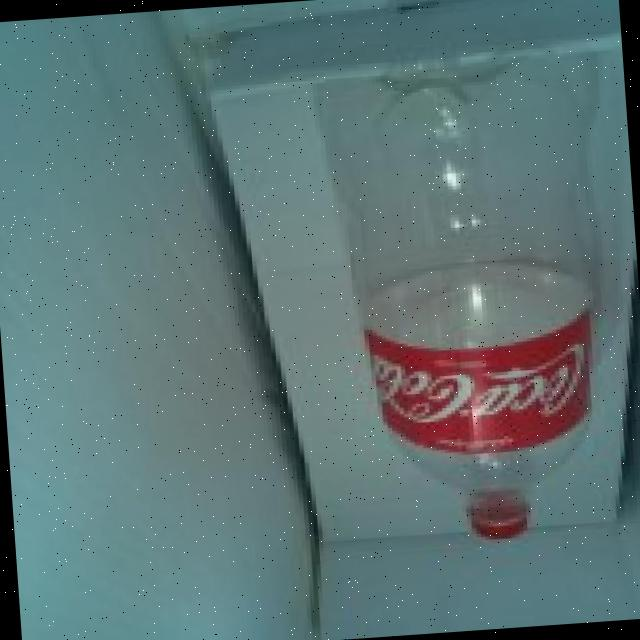bottle: (299, 49, 617, 569)
cap: (467, 504, 533, 547)
label: (352, 316, 586, 444)
